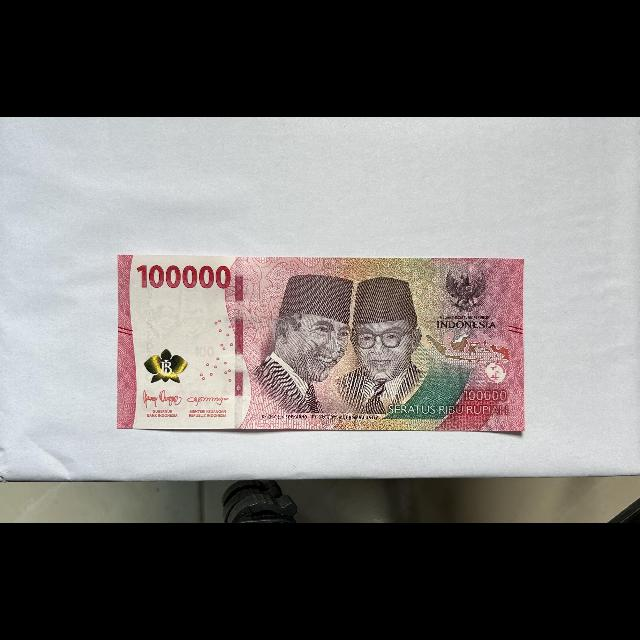Asli-100k: (116, 253, 527, 436)
Tinta-Asli-100k: (143, 348, 189, 385)
